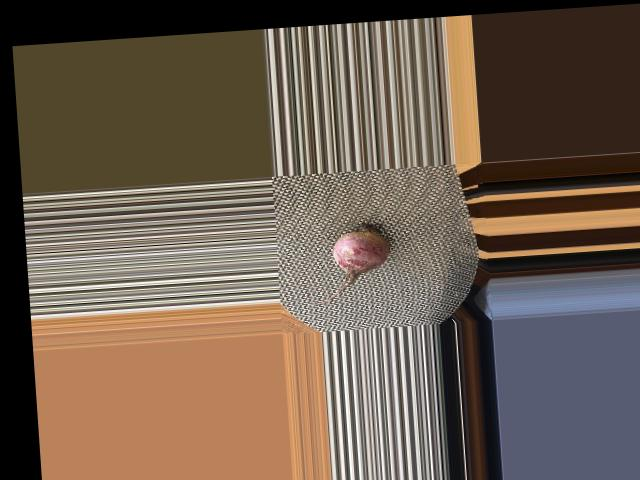beet: (306, 220, 393, 306)
